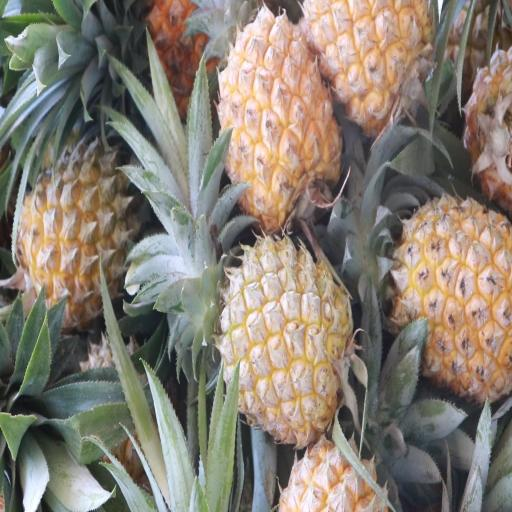------------------------------: (13, 150, 138, 329)
Pineapple - v8 v1: (220, 227, 352, 441), (215, 13, 343, 224), (397, 193, 512, 408), (305, 0, 432, 129)
